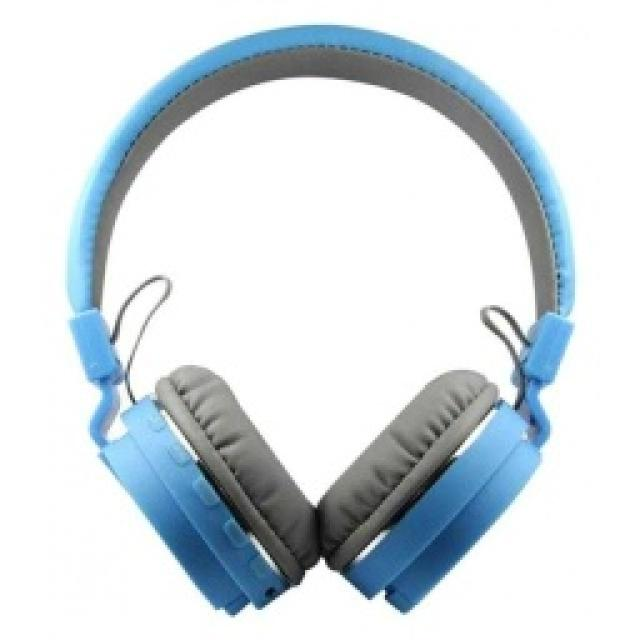headphones: (62, 20, 578, 615)
